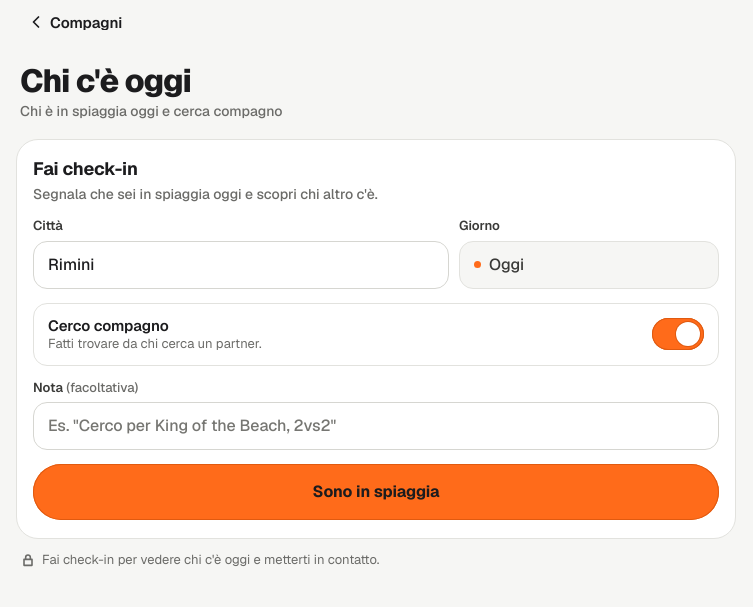
Test: ChiCeOggi — form di check-in (non in spiaggia) › la nota è facoltativa e, quando si scrive, ha il contatore dei caratteri (max 80)
The width and height of the screenshot is (753, 607).
Type "ciao" into the field labelled "Nota (facoltativa)".
click(376, 426); type("ciao")  # box [33,402,719,450]
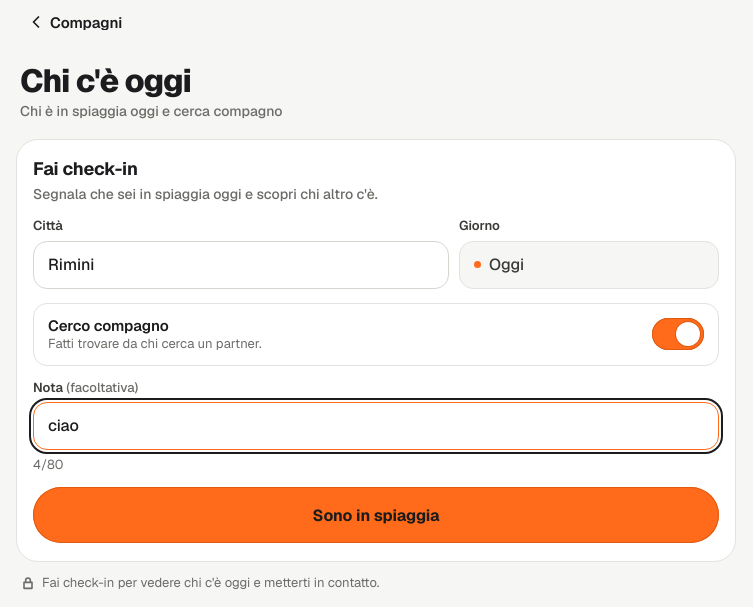
expect the text "4/80" is shown: met, box [33,456,64,473]
